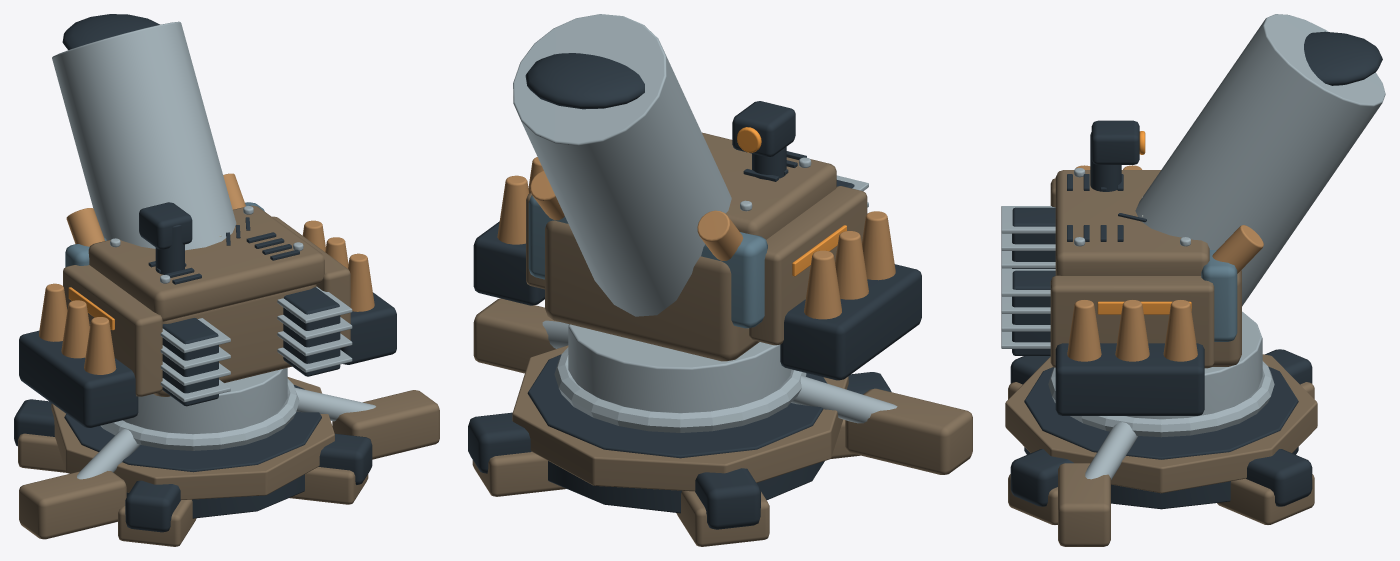
File: 06_siege_judgement.glb
The picture shows the model from 3 angles, left to right: view 1: azimuth 30°, elevation 25°; view 2: azimuth 150°, elevation 25°; view 3: azimuth 270°, elevation 25°; orthographic projection. The views are drawn at different scales.
Visible parts, largest first — view 1: Rivet, Armored cradle, Armored footing, Cooling vent, Recessed bearing, Bearing, Recoil piston, Recoil shield; view 2: Rivet, Armored footing, Armored cradle, Cooling vent, Bearing, Recessed bearing, Recoil piston, Recoil shield, Identification strip; view 3: Rivet, Cooling vent, Armored cradle, Armored footing, Recessed bearing, Bearing, Recoil piston, Recoil shield, Identification strip.
Part boxes in pixels (box(x1,y1,x2,y2)): Rivet: box(52, 21, 352, 402); Armored cradle: box(63, 205, 350, 396); Armored footing: box(18, 377, 439, 546); Cooling vent: box(19, 14, 396, 427); Recessed bearing: box(14, 385, 372, 532); Bearing: box(77, 368, 375, 479); Recoil piston: box(39, 173, 374, 374); Recoil shield: box(65, 202, 264, 267); Rivet: box(513, 14, 868, 316); Armored footing: box(472, 298, 972, 546); Armored cradle: box(526, 132, 867, 361); Cooling vent: box(473, 53, 921, 380); Bearing: box(542, 320, 897, 432); Recessed bearing: box(468, 354, 891, 529); Recoil piston: box(497, 157, 895, 319); Recoil shield: box(528, 195, 767, 328); Identification strip: box(737, 127, 846, 276); Rivet: box(1001, 14, 1385, 348); Cooling vent: box(1012, 31, 1382, 415); Armored cradle: box(1050, 170, 1241, 368); Armored footing: box(1005, 354, 1317, 546); Recessed bearing: box(1010, 349, 1312, 509); Bearing: box(1048, 311, 1274, 479); Recoil piston: box(1067, 165, 1263, 361); Recoil shield: box(1201, 250, 1237, 341); Identification strip: box(1097, 131, 1191, 314).
Size of the model in its own units: 2.05 by 2.01 by 1.6.
